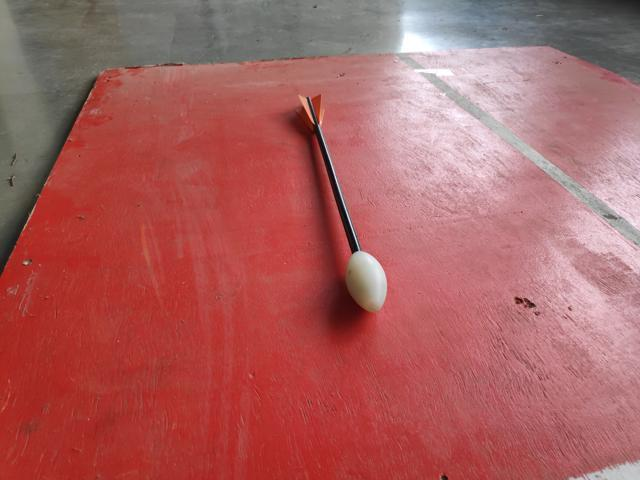Head: (342, 248, 390, 314)
Tail: (293, 91, 328, 132)
